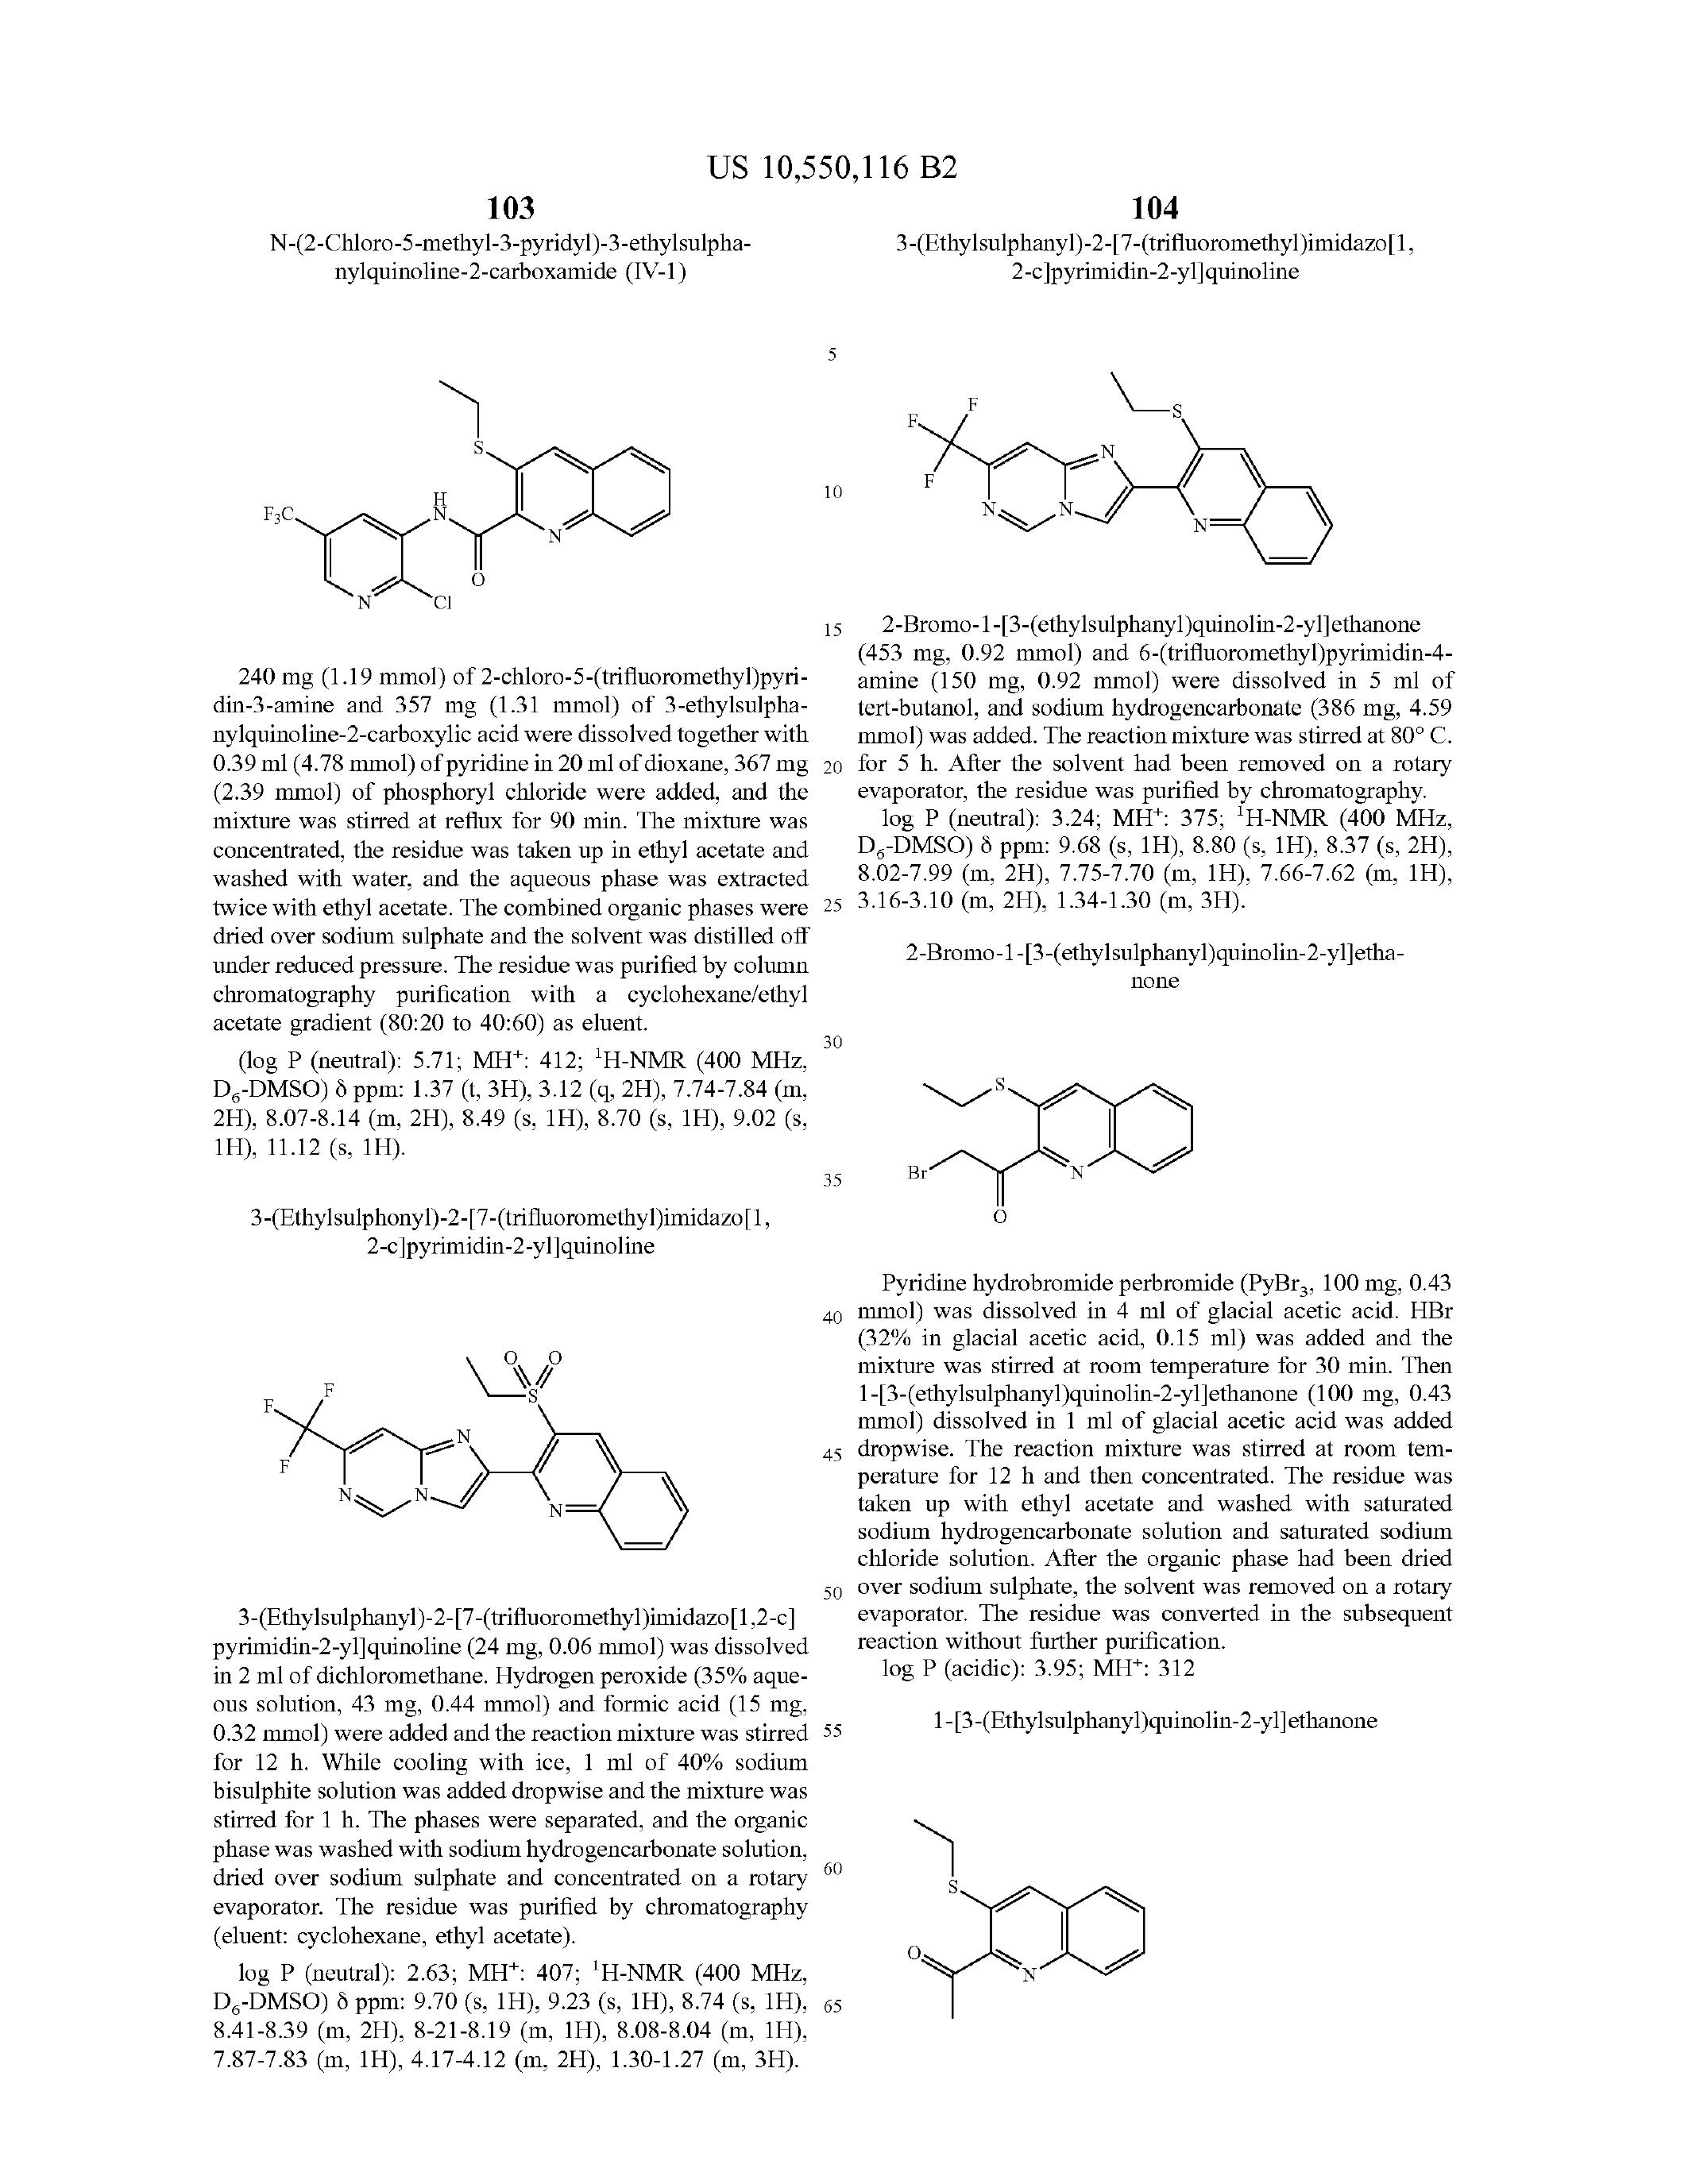intermediates: (261, 1292, 750, 1572), (892, 1037, 1335, 1264), (892, 1794, 1213, 2076)
relevant-structures: (238, 349, 755, 635), (910, 351, 1411, 583)
